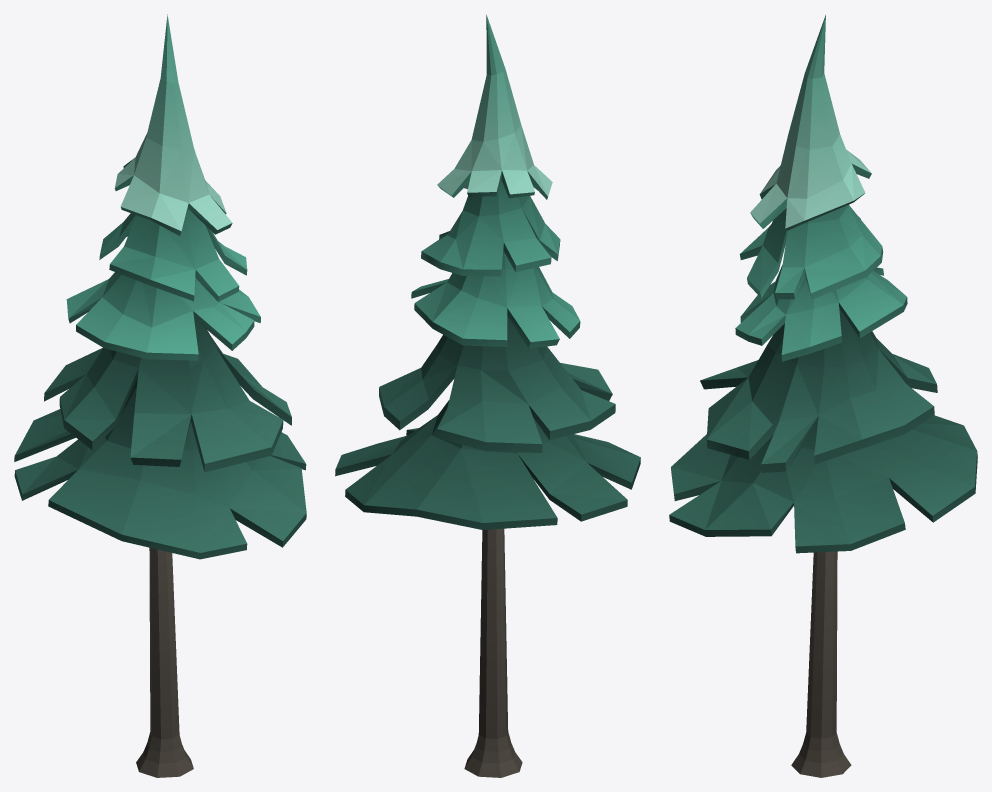
File: ZLP_Plant_K_10.FBX
3 renders of one model, left to right at view 1: azimuth 30°, elevation 25°; view 2: azimuth 150°, elevation 25°; view 3: azimuth 270°, elevation 25°, orthographic.
Parts seen in each view (by area): view 1: ZLP_Plant_K_10; view 2: ZLP_Plant_K_10; view 3: ZLP_Plant_K_10.
Part boxes in pixels (x1,y1,x2,y2): ZLP_Plant_K_10: (14,14,306,777); ZLP_Plant_K_10: (335,14,640,777); ZLP_Plant_K_10: (669,15,977,777).
Bounding box in the file's own units: 249 × 649 × 241.
